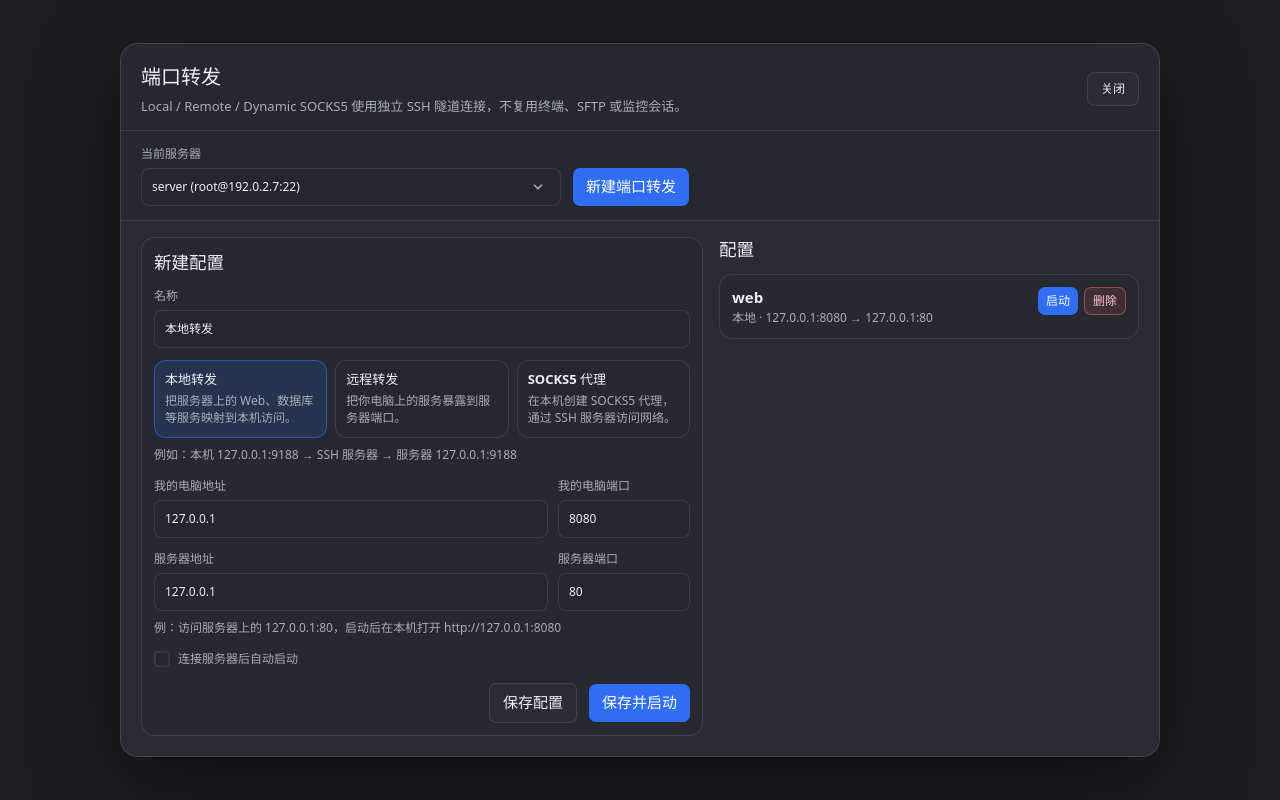
Scenario: TunnelManagerDialog › clicking a profile card enters edit mode without an edit button
Click the button with test id "tunnel-profile-card" at (929, 307), box [719, 274, 1139, 339]
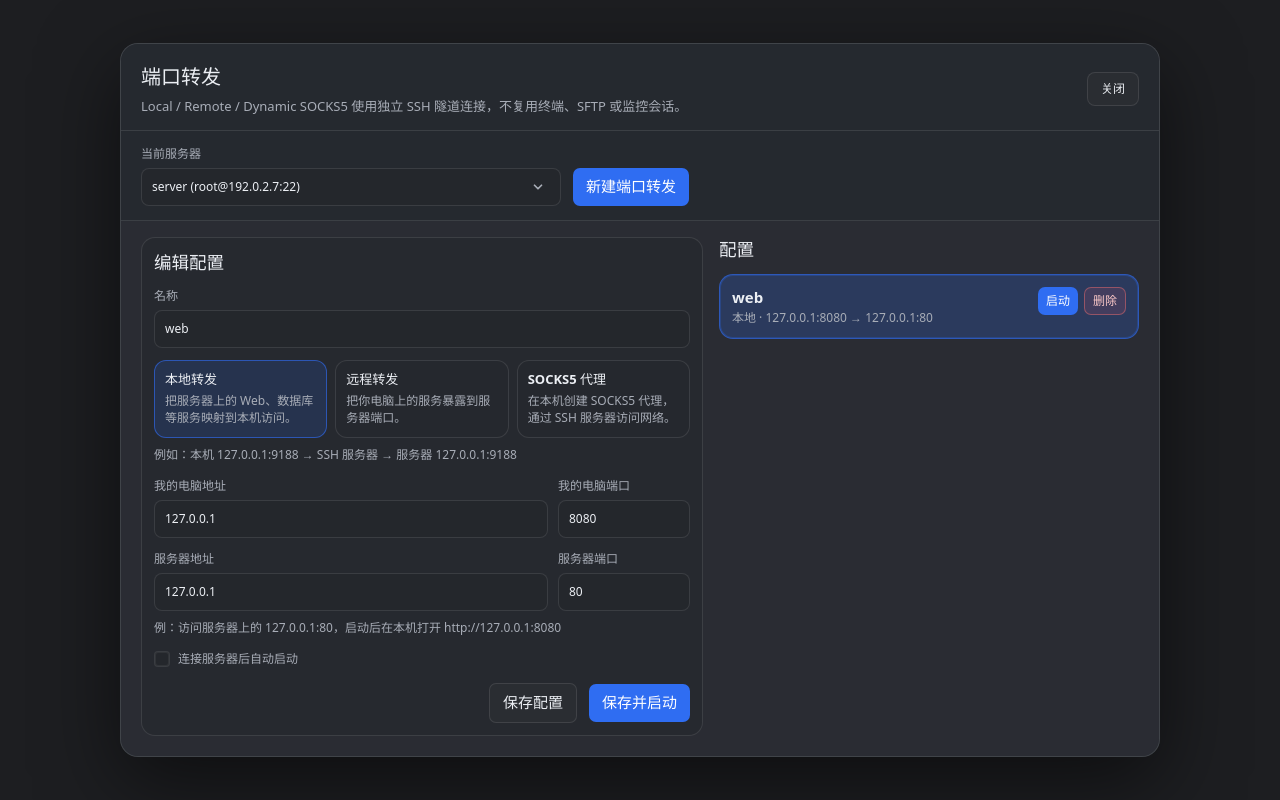
Expected: the field with test id "tunnel-name" holds "web", [154, 310, 690, 348]
